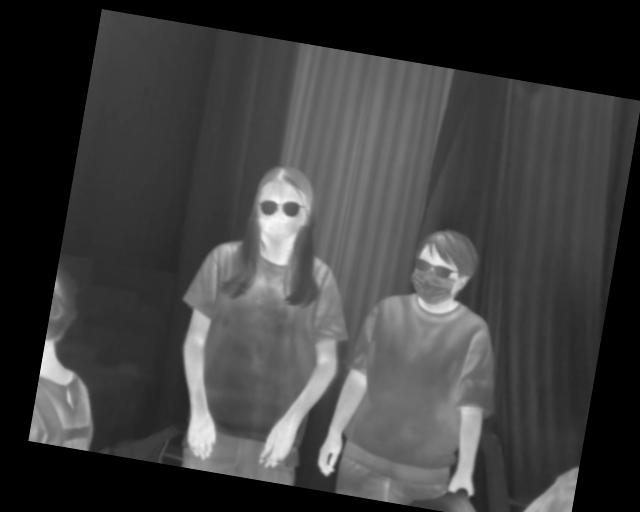face: (407, 224, 480, 311), (247, 161, 318, 247)
